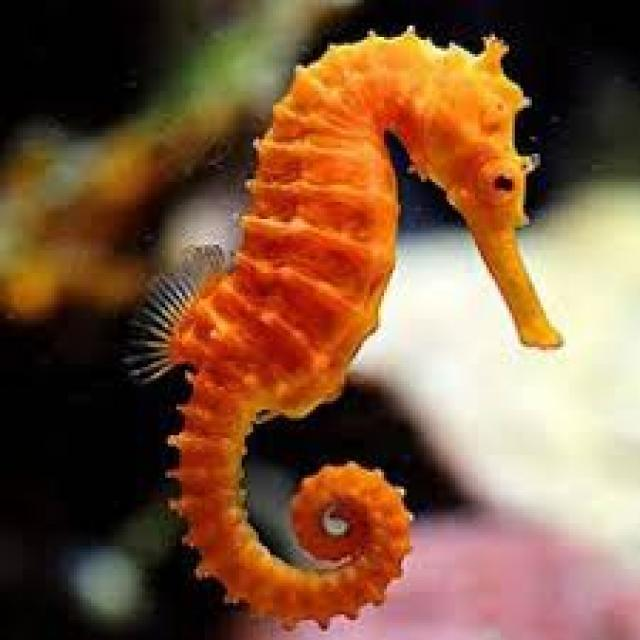SeaHorse: (128, 31, 560, 620)
